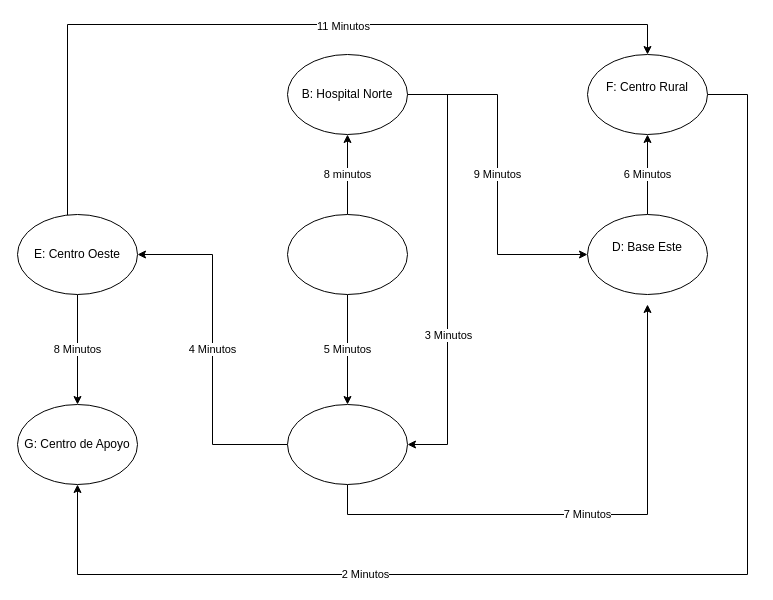
This 773x600 diagram has some shape labels left out. The shapes that lost their labels are listed below. From the top down, each one's centre as x and y in pixels, then its label:
At pixel 347 254: "A: Deposito Central".
At pixel 347 444: "C: Hospital Sur".
